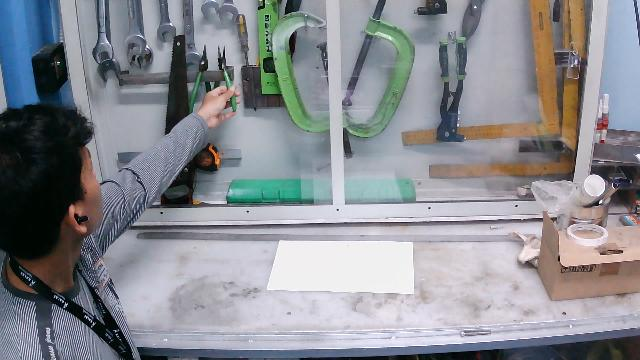tang_cucut_lancip_1: (211, 37, 242, 127)
